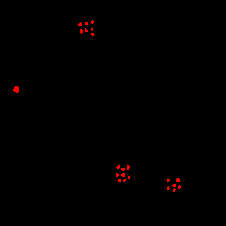Target: (13, 86, 19, 93), (78, 22, 82, 26), (116, 165, 120, 169), (121, 173, 125, 177), (176, 178, 180, 182), (80, 29, 83, 34), (127, 165, 130, 170), (91, 20, 94, 24), (85, 28, 88, 32), (121, 168, 125, 171), (116, 173, 119, 177), (172, 184, 176, 187), (178, 185, 181, 189), (167, 186, 170, 190), (173, 188, 176, 192), (85, 22, 88, 25), (91, 33, 94, 36), (118, 179, 121, 182), (123, 179, 126, 182), (167, 179, 170, 182), (91, 28, 93, 31), (128, 176, 130, 179)
